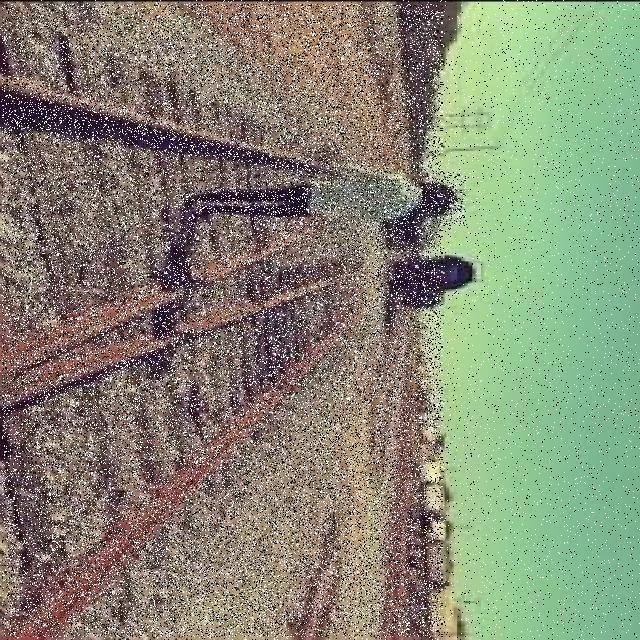rail: (4, 5, 443, 638)
